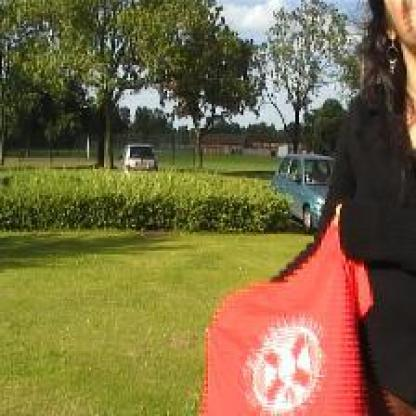other: (187, 242, 371, 412)
